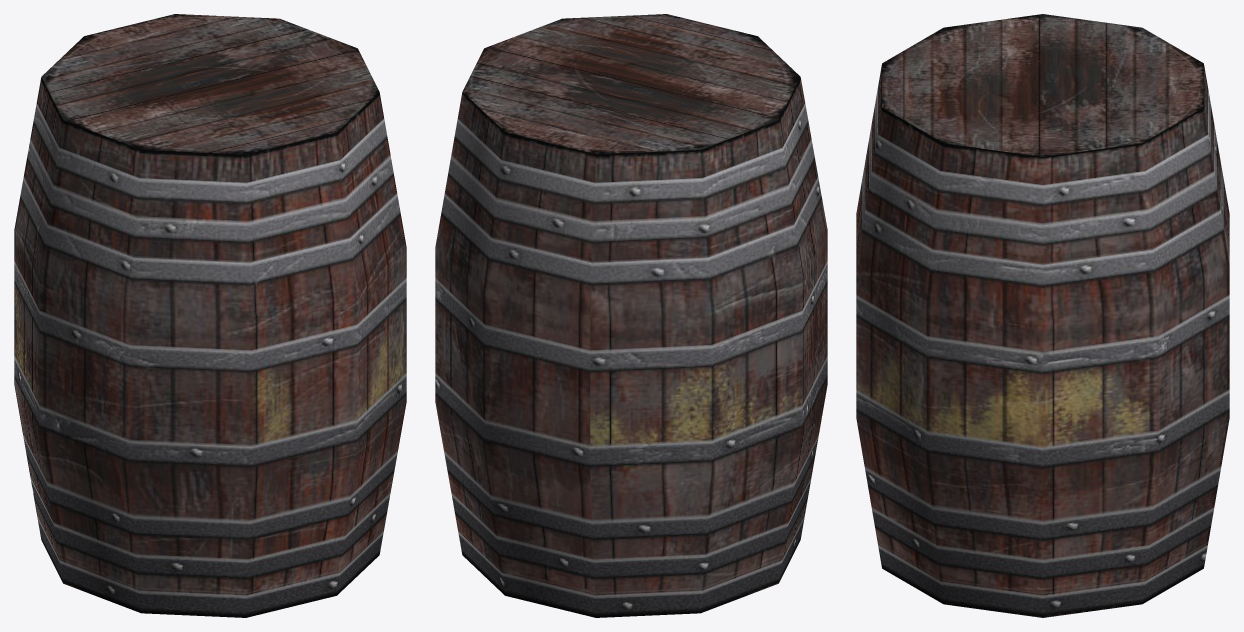
The model's file is mm_barrel.FBX.
3 renders of one model, left to right at view 1: azimuth 30°, elevation 25°; view 2: azimuth 150°, elevation 25°; view 3: azimuth 270°, elevation 25°, orthographic.
Parts seen in each view (by area): view 1: Cylinder001; view 2: Cylinder001; view 3: Cylinder001.
Part boxes in pixels (x1,y1,x2,y2): Cylinder001: (14, 14, 406, 617); Cylinder001: (435, 14, 827, 617); Cylinder001: (856, 14, 1229, 617).
Size of the model in its own units: 77.15 by 100 by 73.38.
Materials: 1 (1 with a texture image).
